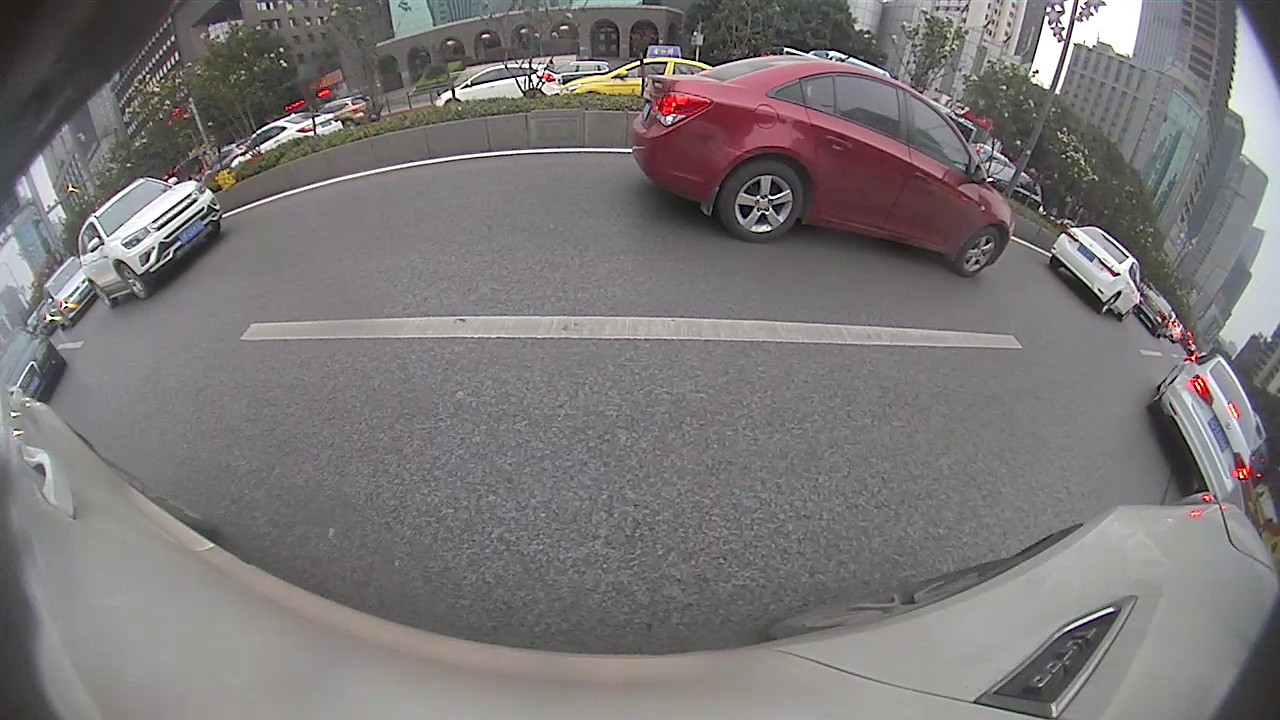car: (628, 55, 1014, 278), (78, 176, 223, 309), (1147, 350, 1258, 503), (1048, 226, 1146, 320), (433, 63, 563, 109), (1, 328, 67, 401), (39, 258, 98, 328)
front: (954, 227, 1002, 275), (116, 264, 150, 300)
rear: (722, 163, 806, 241)
